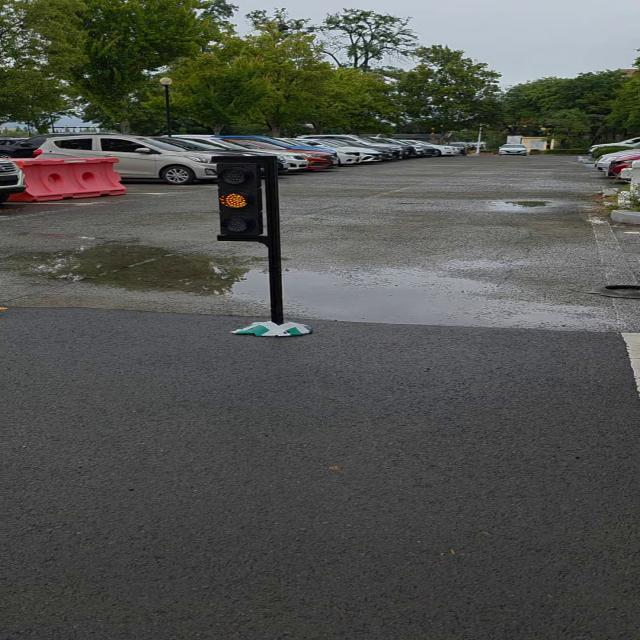yellow: (221, 158, 256, 238)
